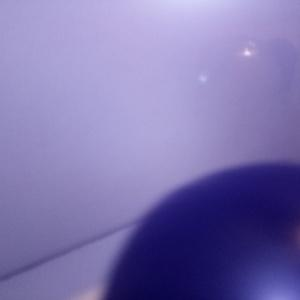dead_ball: (105, 164, 300, 300)
